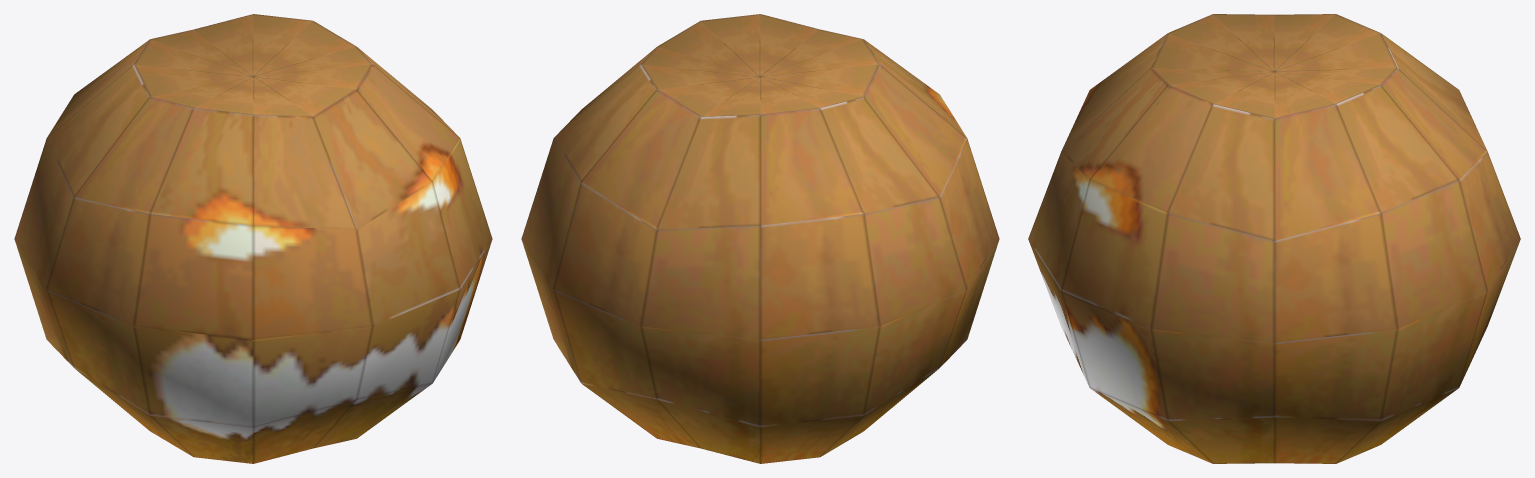
3 views of the same model, side by side, from view 1: azimuth 30°, elevation 25°; view 2: azimuth 150°, elevation 25°; view 3: azimuth 270°, elevation 25° (orthographic). The views are drawn at different scales.
Visible parts, largest first — view 1: T1L6M007_18; view 2: T1L6M007_18; view 3: T1L6M007_18.
Boxes of the visible parts, x1=… form: T1L6M007_18: x1=14, y1=14, x2=492, y2=463; T1L6M007_18: x1=521, y1=14, x2=999, y2=463; T1L6M007_18: x1=1028, y1=14, x2=1520, y2=463.
Bounding box in the file's own units: 1.88 × 1.51 × 1.88.
